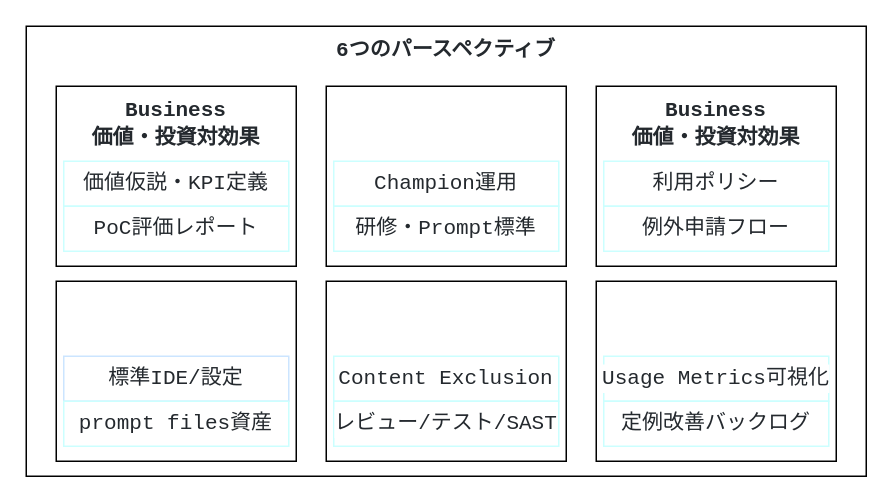
Image size: 893x503. Some labels were removed from this diagram. Each missing label, with the box of its shape:
Operations 運用・測定・改善: (595, 280, 836, 461)
People 人材・組織・チェンジ: (325, 85, 566, 266)
Platform 開発環境・標準化・拡張: (55, 280, 296, 461)
Security セキュリティ・プライバシー: (325, 280, 566, 461)
